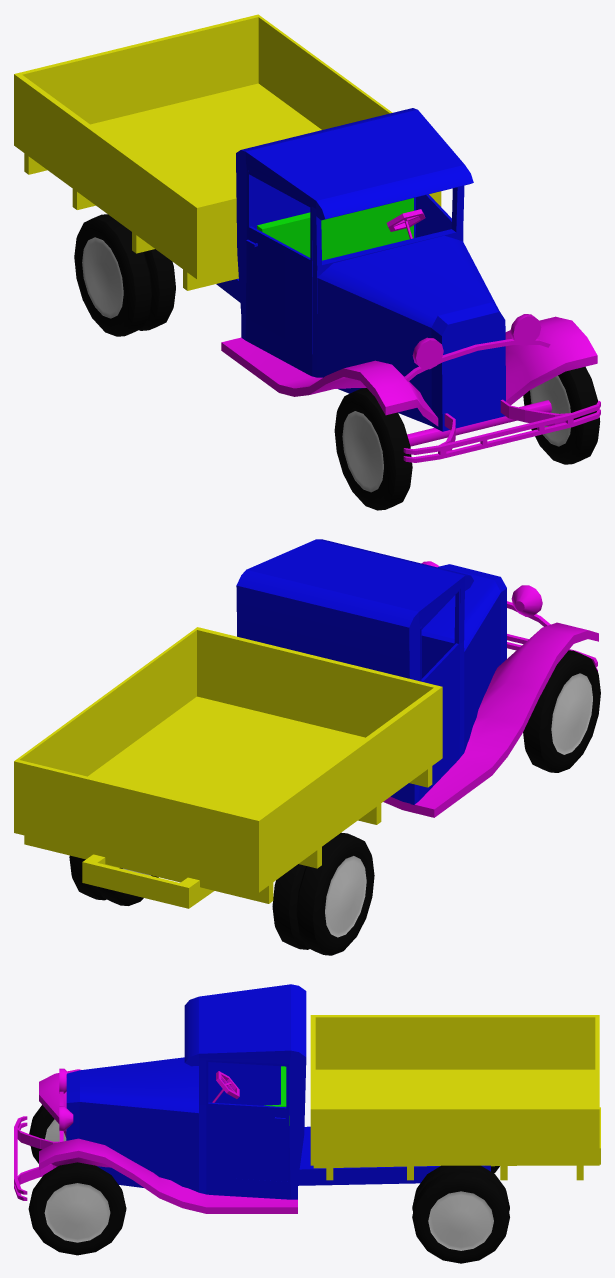
File: GAZ_AA_Civil.fbx
3 renders of one model, top to bottom at view 1: azimuth 30°, elevation 25°; view 2: azimuth 150°, elevation 25°; view 3: azimuth 270°, elevation 25°, orthographic. The views are drawn at different scales.
Parts seen in each view (by area): view 1: GAZ_AA_Madeira, GAZ_AA_Corpo, GAZ_AA_Metal_Escuro, GAZ_AA_Roda_Trazeira_R, GAZ_AA_Porta_R, GAZ_AA_Roda_Frontal_R, GAZ_AA_Banco, GAZ_AA_Roda_Frontal_L, GAZ_AA_Porta_L; view 2: GAZ_AA_Madeira, GAZ_AA_Corpo, GAZ_AA_Metal_Escuro, GAZ_AA_Roda_Trazeira_R, GAZ_AA_Roda_Frontal_R, GAZ_AA_Porta_R, GAZ_AA_Roda_Trazeira_L; view 3: GAZ_AA_Madeira, GAZ_AA_Corpo, GAZ_AA_Metal_Escuro, GAZ_AA_Roda_Trazeira_L, GAZ_AA_Roda_Frontal_L, GAZ_AA_Porta_L, GAZ_AA_Porta_R, GAZ_AA_Roda_Frontal_R.
Part boxes in pixels (x1=…): GAZ_AA_Madeira: x1=14, y1=14, x2=441, y2=290; GAZ_AA_Corpo: x1=216, y1=108, x2=505, y2=431; GAZ_AA_Metal_Escuro: x1=221, y1=209, x2=600, y2=462; GAZ_AA_Roda_Trazeira_R: x1=74, y1=214, x2=175, y2=336; GAZ_AA_Porta_R: x1=246, y1=170, x2=312, y2=353; GAZ_AA_Roda_Frontal_R: x1=334, y1=388, x2=412, y2=510; GAZ_AA_Banco: x1=257, y1=198, x2=413, y2=260; GAZ_AA_Roda_Frontal_L: x1=523, y1=366, x2=600, y2=464; GAZ_AA_Porta_L: x1=415, y1=194, x2=451, y2=237; GAZ_AA_Madeira: x1=14, y1=627, x2=442, y2=908; GAZ_AA_Corpo: x1=236, y1=539, x2=506, y2=804; GAZ_AA_Metal_Escuro: x1=383, y1=561, x2=598, y2=817; GAZ_AA_Roda_Trazeira_R: x1=272, y1=832, x2=374, y2=955; GAZ_AA_Roda_Frontal_R: x1=523, y1=650, x2=600, y2=772; GAZ_AA_Porta_R: x1=420, y1=589, x2=459, y2=753; GAZ_AA_Roda_Trazeira_L: x1=69, y1=855, x2=158, y2=905; GAZ_AA_Madeira: x1=310, y1=1015, x2=600, y2=1180; GAZ_AA_Corpo: x1=66, y1=984, x2=490, y2=1199; GAZ_AA_Metal_Escuro: x1=14, y1=1068, x2=297, y2=1213; GAZ_AA_Roda_Trazeira_L: x1=412, y1=1165, x2=509, y2=1263; GAZ_AA_Roda_Frontal_L: x1=28, y1=1162, x2=126, y2=1255; GAZ_AA_Porta_L: x1=206, y1=1060, x2=290, y2=1181; GAZ_AA_Porta_R: x1=208, y1=1062, x2=280, y2=1105; GAZ_AA_Roda_Frontal_R: x1=29, y1=1105, x2=66, y2=1163.
Size of the model in its own units: 208 by 200 by 532.
